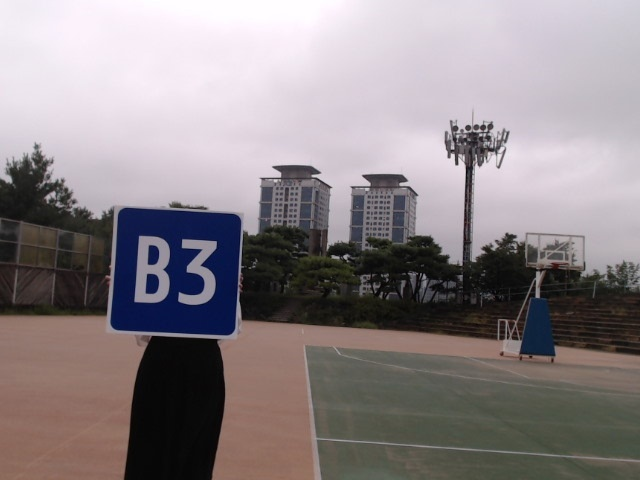delivery_b3: (111, 205, 242, 340)
